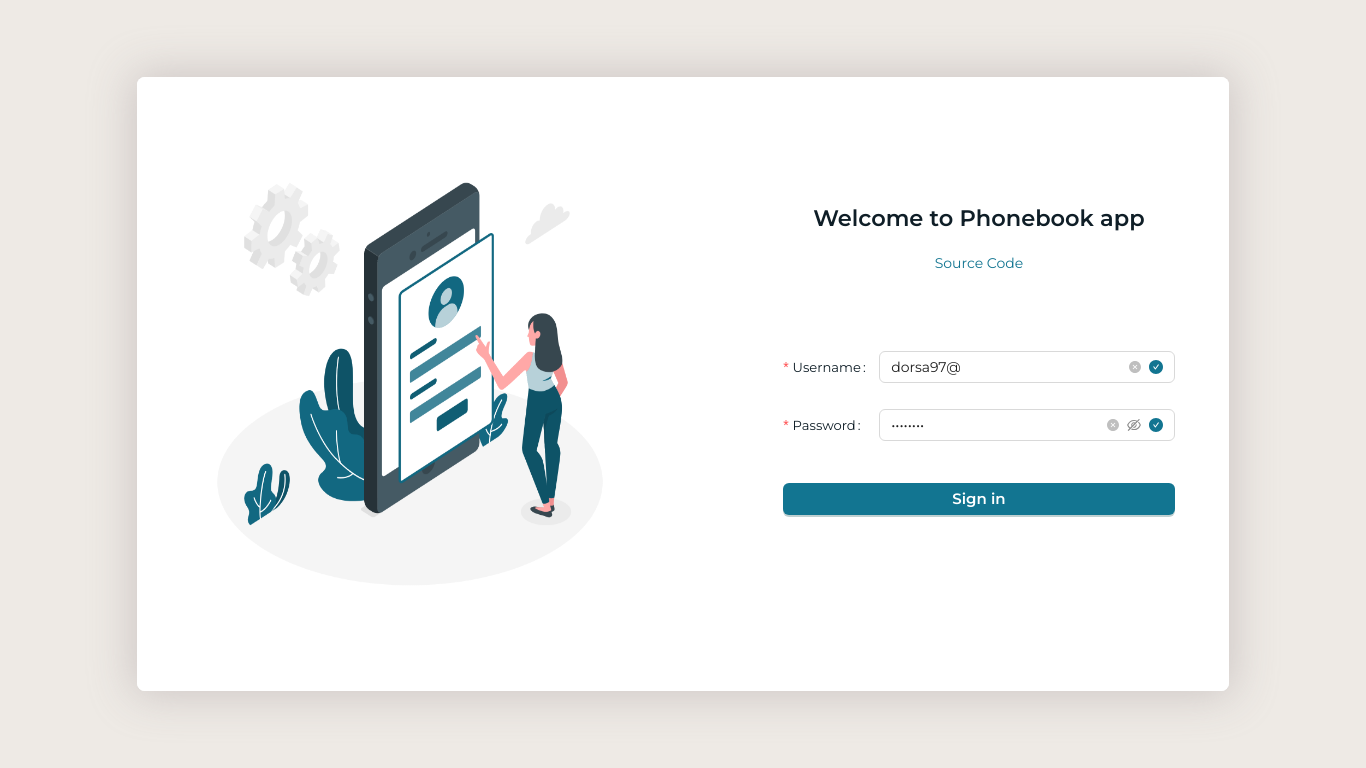
signin › signin on valid inputs and response status:200
This screenshot has width=1366, height=768.
Click the button "Sign in".
click(979, 499)  # box x1=783 y1=483 x2=1175 y2=515
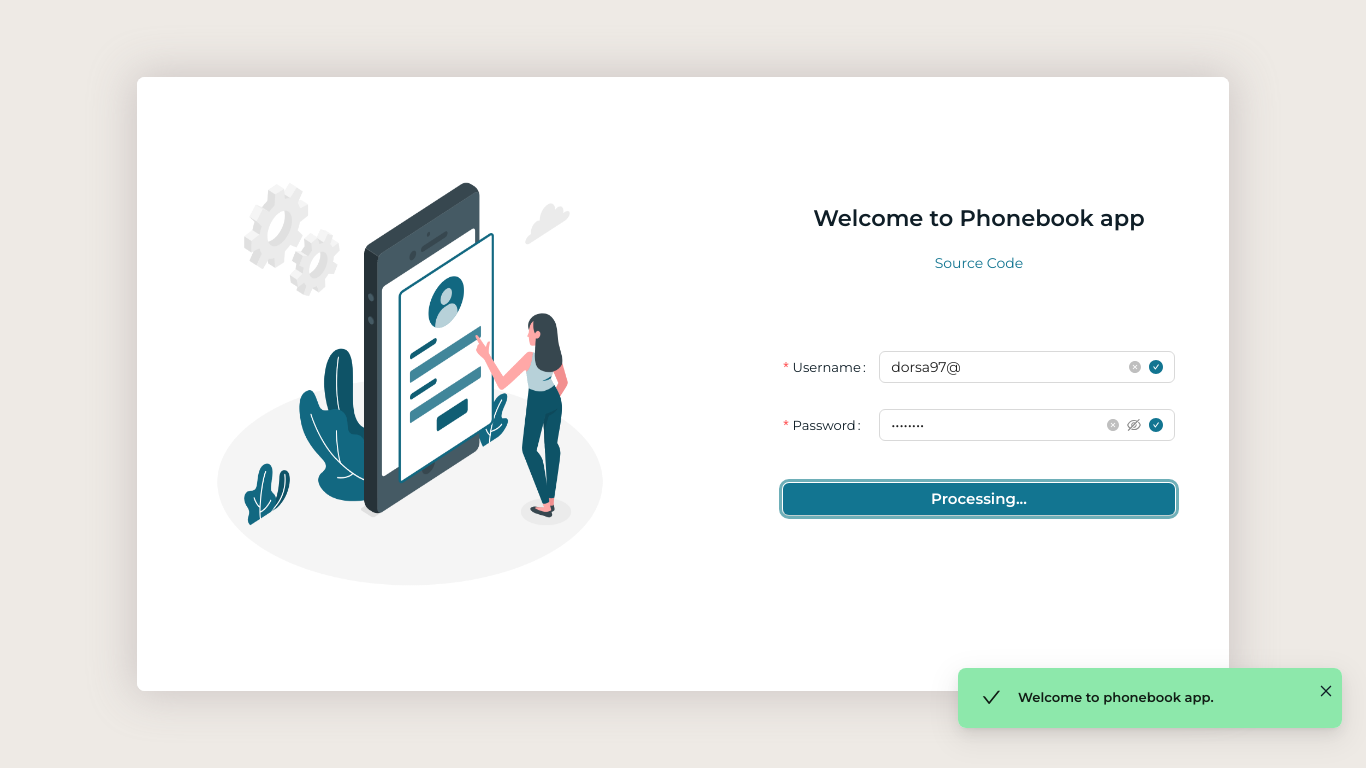
Expected: the text "Processing..." is shown, x1=931 y1=489 x2=1027 y2=508
Expected: the text "Welcome to phonebook app." is shown, x1=1018 y1=689 x2=1214 y2=705
